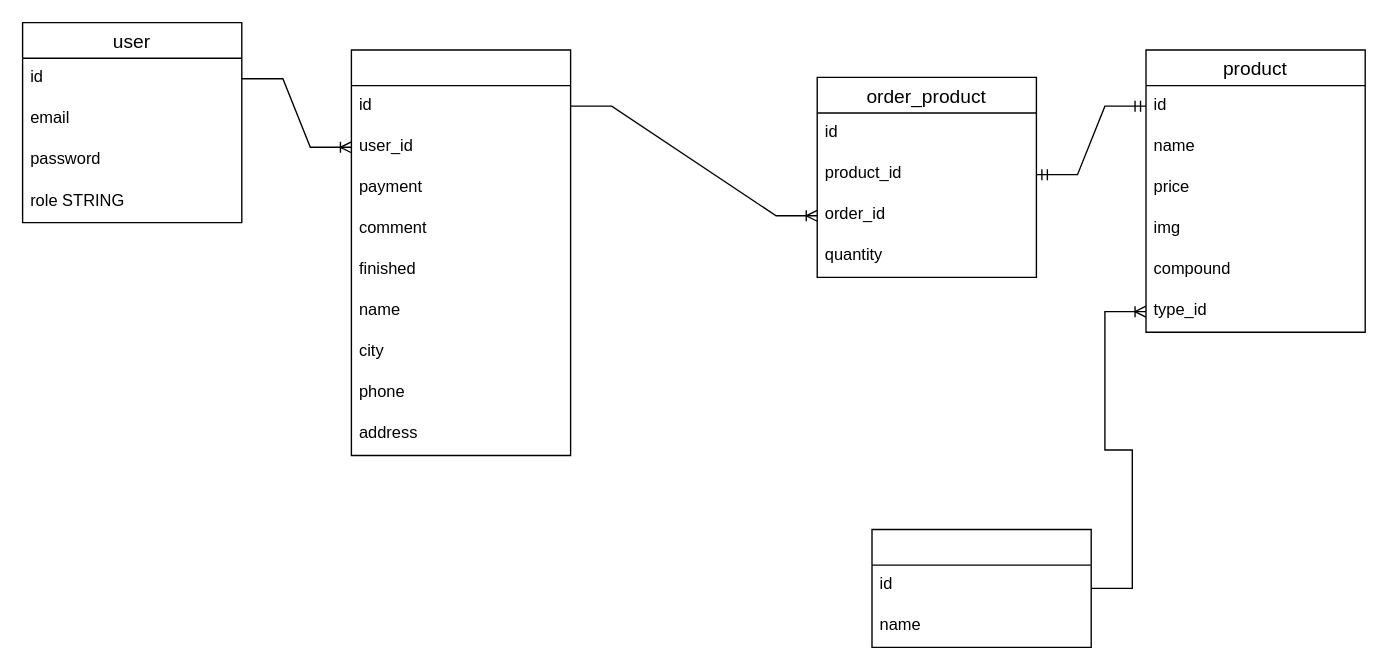
This 1388x670 diagram has some shape labels left out. The box of each missing label's shape, as (x1, y1, x2, y2) in pixels:
order: (350, 49, 571, 456)
type: (871, 528, 1091, 647)
